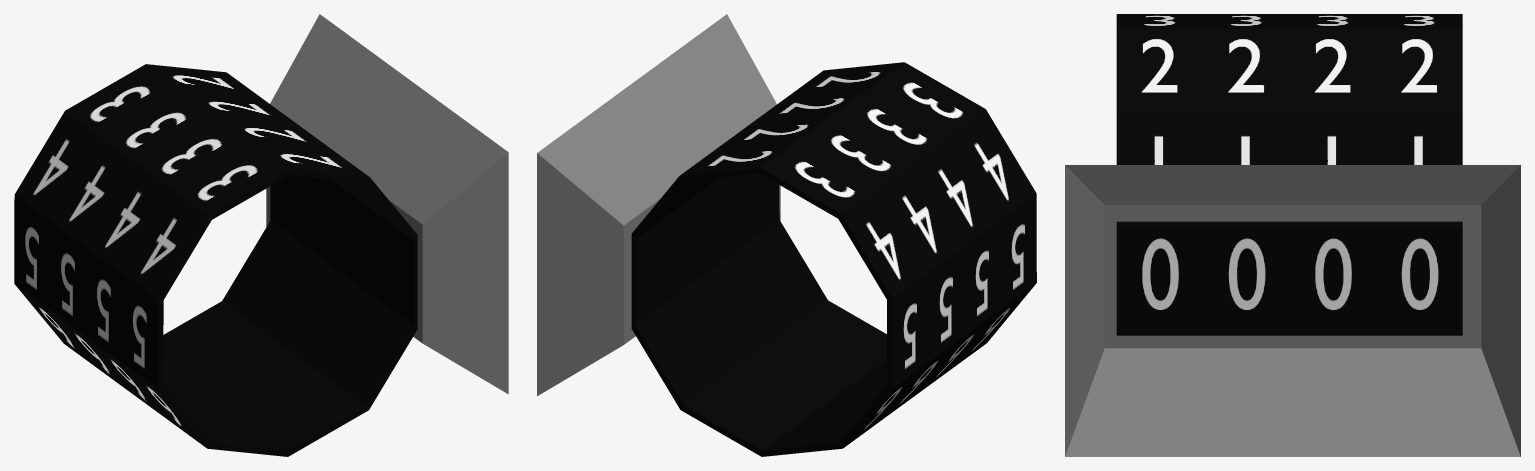
File: Counter.fbx
3 views of the same model, side by side, from view 1: azimuth 30°, elevation 25°; view 2: azimuth 150°, elevation 25°; view 3: azimuth 270°, elevation 25° (orthographic). The views are drawn at different scales.
Visible parts, largest first — view 1: Plane.004, Plane.008, Plane.006, Plane.005, Plane.007, Plane; view 2: Plane.004, Plane.005, Plane.006, Plane.008, Plane.007, Plane; view 3: Plane.004, Plane.005, Plane.007, Plane.006, Plane.008.
Part boxes in pixels (bbox=[...]): Plane.004: bbox=[266, 14, 508, 394]; Plane.008: bbox=[122, 143, 417, 456]; Plane.006: bbox=[50, 90, 342, 398]; Plane.005: bbox=[14, 64, 306, 371]; Plane.007: bbox=[86, 116, 378, 424]; Plane: bbox=[294, 273, 377, 379]; Plane.004: bbox=[537, 14, 780, 396]; Plane.005: bbox=[631, 141, 928, 456]; Plane.006: bbox=[671, 115, 964, 424]; Plane.008: bbox=[743, 62, 1036, 371]; Plane.007: bbox=[707, 88, 1000, 397]; Plane: bbox=[707, 246, 791, 352]; Plane.004: bbox=[1065, 165, 1520, 456]; Plane.005: bbox=[1376, 14, 1462, 335]; Plane.007: bbox=[1203, 14, 1289, 335]; Plane.006: bbox=[1289, 14, 1375, 335]; Plane.008: bbox=[1116, 14, 1202, 335].
Bounding box in the file's own units: 753 × 628 × 748.
